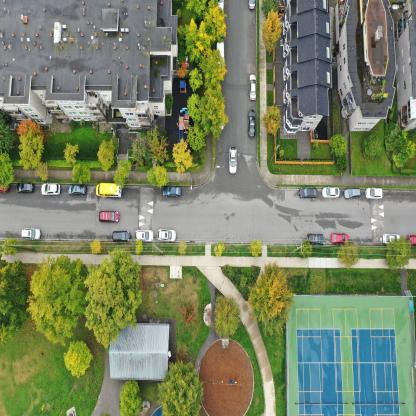Coniferous Tree: (247, 264, 293, 328), (154, 360, 205, 416), (0, 261, 22, 338), (213, 293, 240, 338)
Deciduous Tree: (90, 252, 138, 343), (27, 259, 85, 330), (201, 88, 227, 143), (201, 39, 231, 85), (183, 19, 210, 60), (62, 339, 91, 377), (260, 14, 279, 60), (385, 242, 412, 274), (207, 2, 229, 41), (117, 379, 142, 412), (95, 141, 115, 172), (174, 143, 191, 178), (338, 244, 360, 271), (113, 159, 130, 189), (264, 106, 279, 138), (150, 163, 166, 187), (247, 238, 266, 255), (212, 241, 228, 257), (177, 241, 188, 260)
